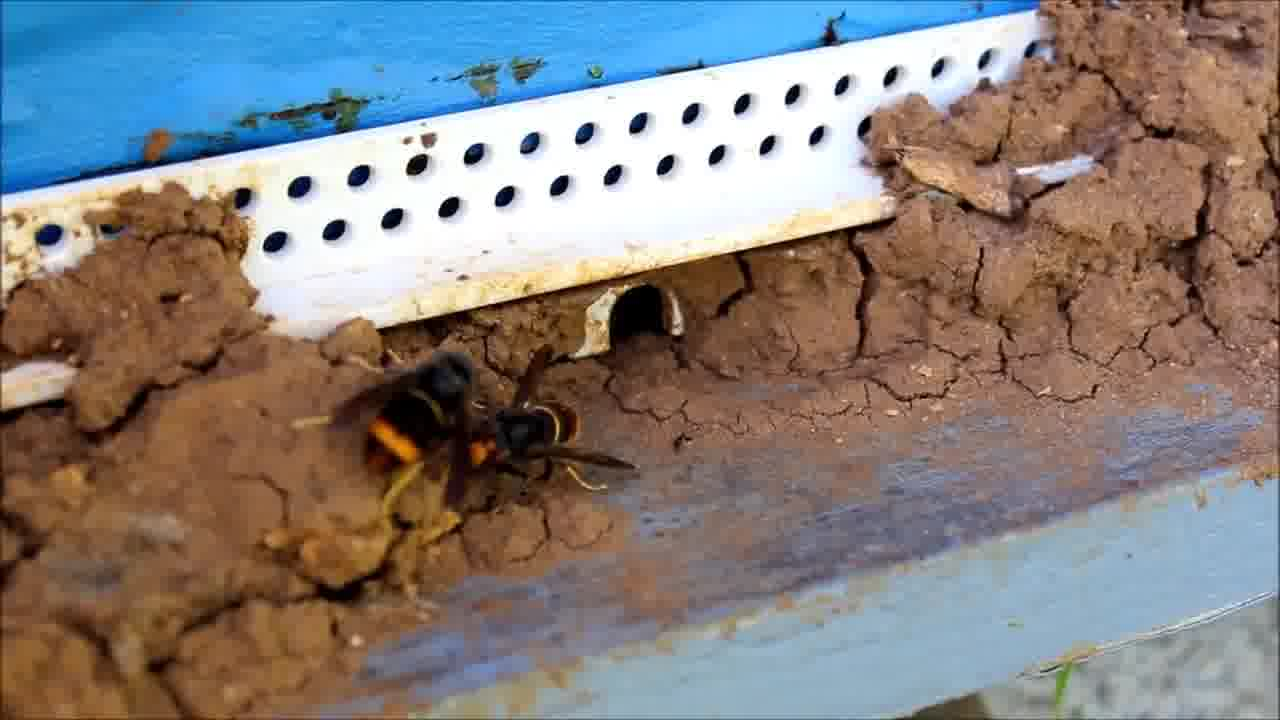hornet: (327, 336, 488, 503), (472, 375, 613, 494)
